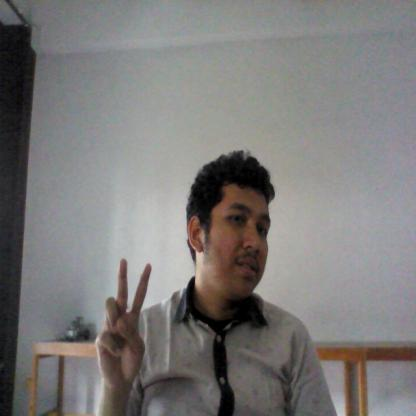V: (94, 258, 154, 395)
